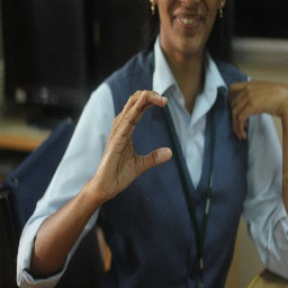C: (109, 87, 183, 180)
